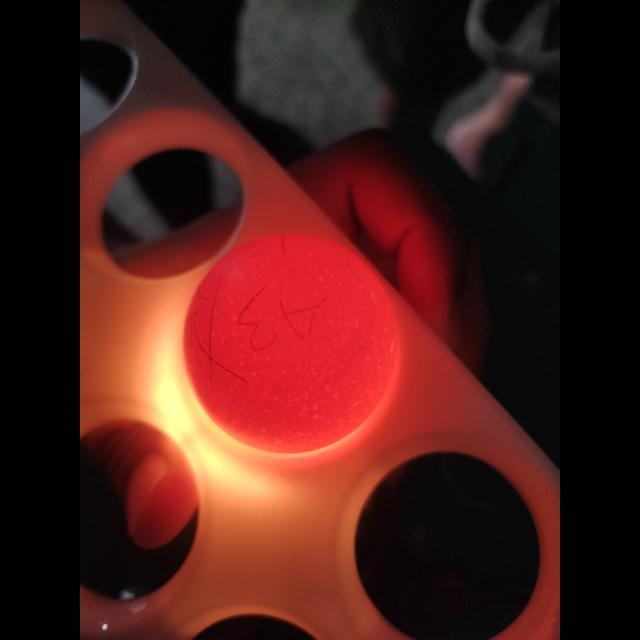Infertile: (188, 236, 394, 437)
